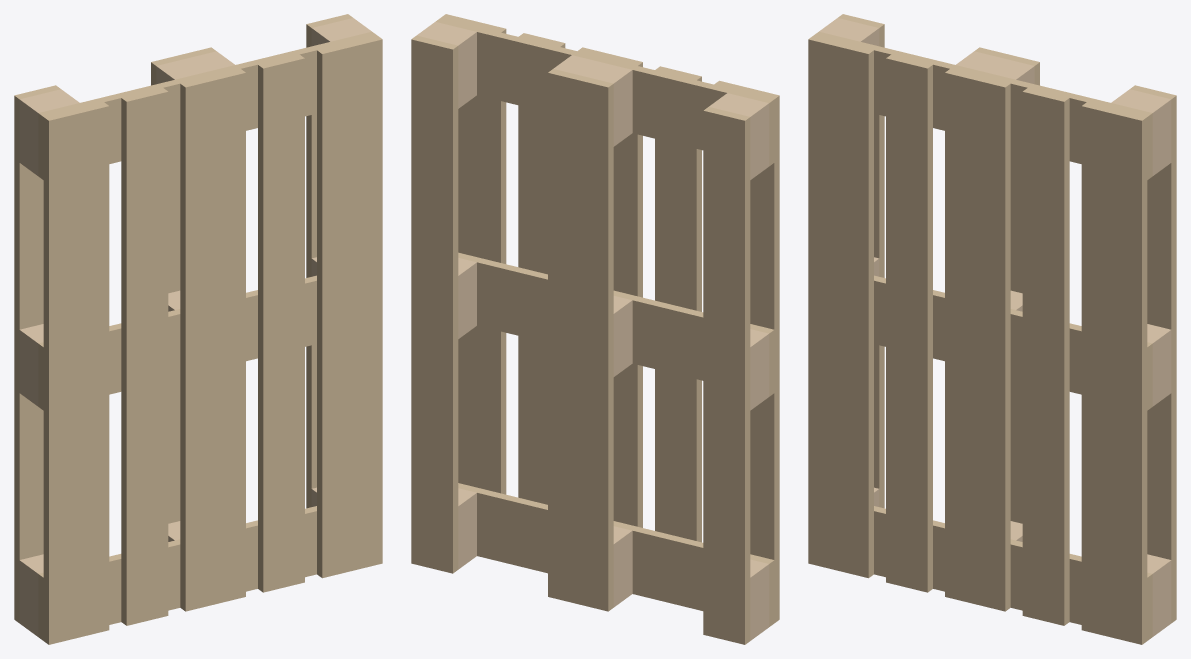
The model's file is EURO PALLET.fbx.
3 renders of one model, left to right at view 1: azimuth 30°, elevation 25°; view 2: azimuth 150°, elevation 25°; view 3: azimuth 330°, elevation 25°, orthographic.
Visible parts, largest first — view 1: Body4, Body8, Body12, Body13, Body5, Body17, Body7, Body20, Body3, Body6, Body10, Body16 (+4 smaller); view 2: Body20, Body10, Body17, Body8, Body13, Body7, Body4, Body6, Body3, Body5, Body12, Body1 (+8 smaller); view 3: Body8, Body4, Body12, Body5, Body13, Body10, Body7, Body20, Body3, Body6, Body17, Body11 (+4 smaller).
Boxes of the visible parts, x1,y1,x2,y2 form: Body4: (43, 102, 109, 644); Body8: (317, 35, 382, 578); Body12: (180, 69, 245, 611); Body13: (121, 88, 168, 625); Body5: (258, 54, 304, 592); Body17: (14, 85, 60, 623); Body7: (38, 31, 376, 179); Body20: (151, 47, 216, 523); Body3: (38, 275, 316, 410); Body6: (38, 506, 316, 640); Body10: (306, 14, 352, 508); Body16: (19, 89, 79, 175); Body20: (548, 69, 613, 611); Body10: (411, 35, 458, 573); Body17: (703, 107, 750, 644); Body8: (441, 14, 506, 494); Body13: (655, 66, 701, 542); Body7: (435, 18, 774, 165); Body4: (714, 80, 779, 623); Body6: (458, 483, 774, 626); Body3: (458, 252, 774, 396); Body5: (518, 33, 565, 504); Body12: (577, 47, 642, 527); Body1: (553, 55, 632, 146); Body8: (1081, 102, 1147, 644); Body4: (808, 35, 873, 578); Body12: (945, 69, 1010, 611); Body5: (1022, 88, 1069, 625); Body13: (886, 54, 932, 592); Body10: (1130, 85, 1176, 623); Body7: (814, 31, 1152, 179); Body20: (974, 47, 1039, 523); Body3: (874, 275, 1152, 410); Body6: (874, 506, 1152, 640); Body17: (838, 14, 884, 508); Body11: (1111, 89, 1171, 175).
Bounding box in the file's own units: 800 × 1200 × 144.
